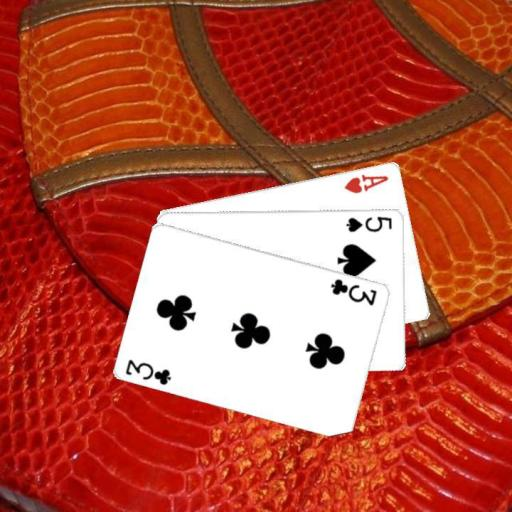3C: (328, 275, 379, 307), (123, 355, 174, 387)
5S: (343, 214, 394, 234)
AH: (342, 171, 391, 195)
